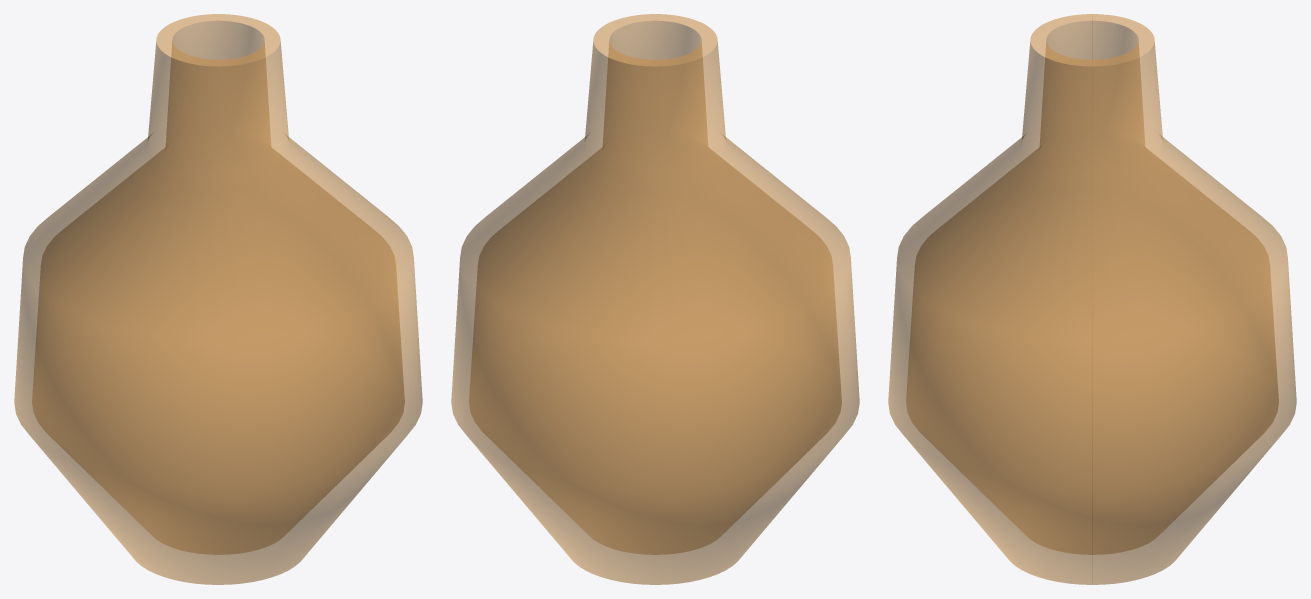
The model's file is glassblowing-studio-and-gallery-pendant-vessel-a06d3a10__29627.glb.
3 renders of one model, left to right at view 1: azimuth 30°, elevation 25°; view 2: azimuth 150°, elevation 25°; view 3: azimuth 270°, elevation 25°, orthographic.
Visible parts, largest first — view 1: pendant-vessel; view 2: pendant-vessel; view 3: pendant-vessel.
Part boxes in pixels (x1=…): pendant-vessel: x1=14, y1=14, x2=422, y2=584; pendant-vessel: x1=451, y1=14, x2=859, y2=584; pendant-vessel: x1=888, y1=14, x2=1296, y2=584.
Bounding box in the file's own units: 0.46 × 0.63 × 0.46.
